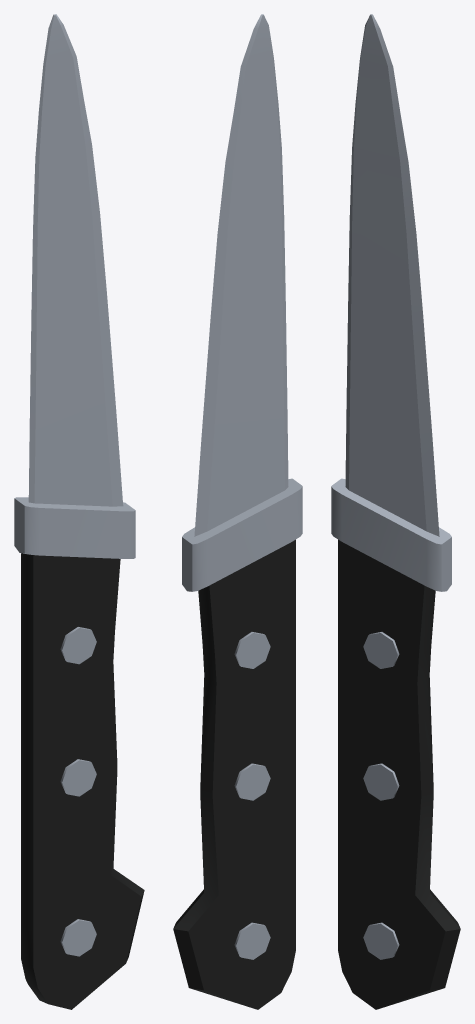
The model's file is scene_PfS79YYquG.glb.
3 views of the same model, side by side, from view 1: azimuth 30°, elevation 25°; view 2: azimuth 210°, elevation 25°; view 3: azimuth 330°, elevation 25° (orthographic).
Parts seen in each view (by area): view 1: knife_paring_knife.001_Cube.009; view 2: knife_paring_knife.001_Cube.009; view 3: knife_paring_knife.001_Cube.009.
Boxes of the visible parts, <box> form: knife_paring_knife.001_Cube.009: <box>14,14,144,1009</box>; knife_paring_knife.001_Cube.009: <box>173,14,302,1009</box>; knife_paring_knife.001_Cube.009: <box>331,14,460,1009</box>.
Bounding box in the file's own units: 0.8605 × 6.53 × 0.1843.
1 material, 1 textured.
